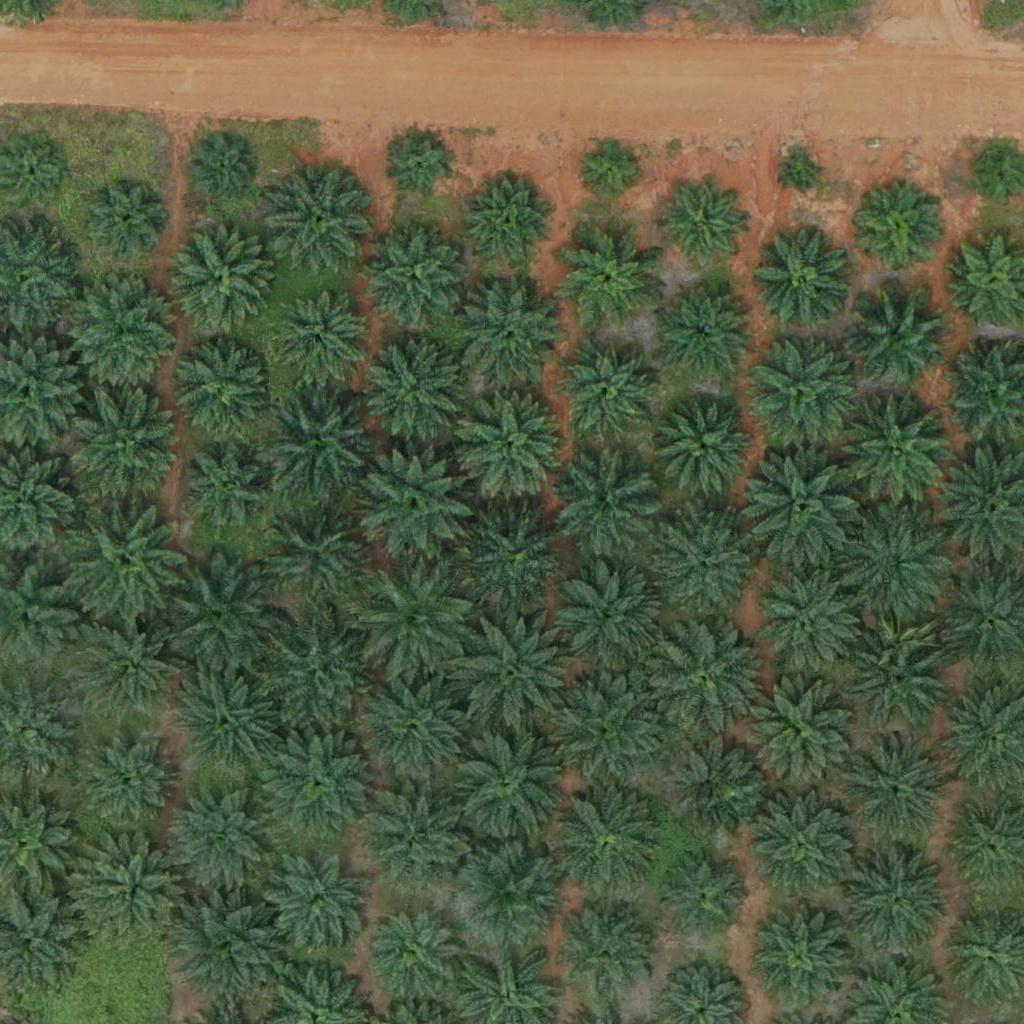Kelapa_Sawit: (63, 383, 188, 509), (62, 498, 187, 624), (158, 554, 283, 680), (254, 374, 379, 500), (253, 493, 378, 619), (253, 609, 378, 735), (354, 443, 479, 569), (352, 561, 477, 687), (449, 609, 574, 735), (737, 447, 862, 573), (830, 504, 955, 630), (445, 723, 570, 849), (352, 663, 477, 789), (255, 720, 380, 846), (450, 386, 575, 511), (640, 617, 765, 742), (547, 666, 672, 791), (547, 779, 672, 904), (840, 395, 953, 509), (173, 884, 286, 998), (66, 276, 179, 389), (845, 845, 958, 958), (76, 839, 189, 952), (74, 611, 186, 725), (260, 851, 372, 965), (746, 330, 858, 443), (749, 566, 861, 679), (839, 615, 951, 728), (841, 728, 953, 841), (171, 226, 271, 327), (170, 341, 270, 442), (273, 167, 373, 268), (267, 288, 367, 389), (364, 224, 464, 325), (364, 336, 464, 437), (459, 281, 559, 382), (467, 508, 567, 609), (561, 228, 661, 329), (556, 343, 656, 444), (557, 457, 657, 558), (561, 561, 661, 662), (653, 280, 753, 381), (655, 396, 755, 497), (652, 512, 752, 613), (749, 684, 849, 785), (753, 798, 853, 899), (747, 909, 847, 1010), (661, 735, 761, 836), (558, 903, 658, 1004), (461, 844, 561, 945), (370, 787, 470, 888), (177, 437, 277, 537), (753, 225, 853, 325), (848, 283, 948, 383), (176, 668, 276, 768), (167, 789, 267, 889), (74, 735, 174, 835), (658, 855, 746, 944), (658, 180, 746, 268), (470, 177, 557, 265), (857, 189, 944, 277), (371, 908, 458, 996), (90, 182, 165, 257), (191, 136, 254, 199), (391, 134, 453, 197), (577, 135, 639, 198), (784, 155, 821, 193)
